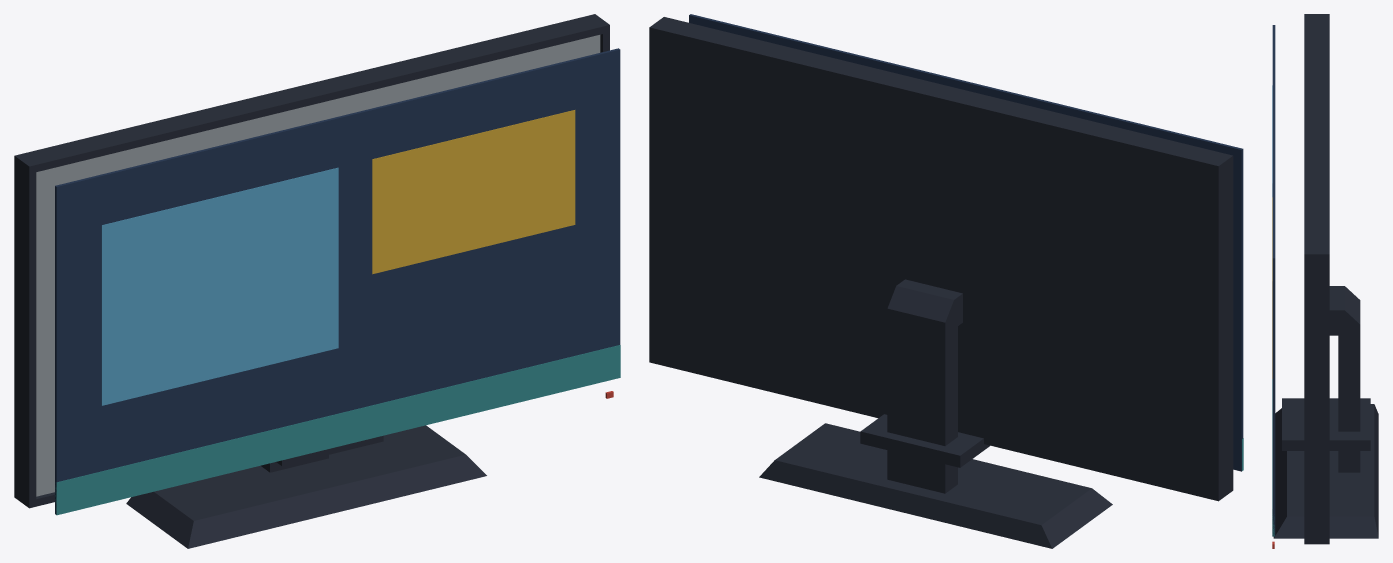
The model's file is televisionModern.glb.
The picture shows the model from 3 angles, left to right: view 1: azimuth 30°, elevation 25°; view 2: azimuth 150°, elevation 25°; view 3: azimuth 270°, elevation 25°; orthographic projection. The views are drawn at different scales.
Parts seen in each view (by area): view 1: televisionModern(Clone); view 2: televisionModern(Clone); view 3: televisionModern(Clone).
Part boxes in pixels (x1,y1,x2,y2): televisionModern(Clone): (14,14,620,548); televisionModern(Clone): (649,14,1243,548); televisionModern(Clone): (1272,14,1378,548).
Size of the model in its own units: 0.6848 by 0.4548 by 0.1284.
